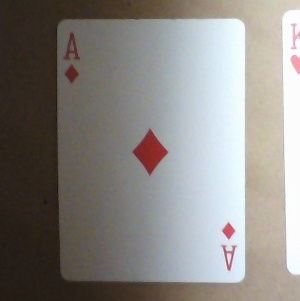card: (52, 15, 248, 286)
